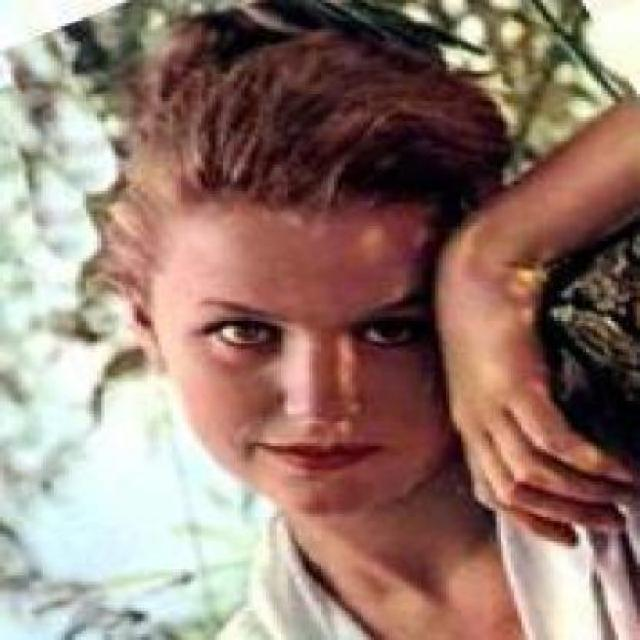closed-mouth: (260, 433, 389, 478)
